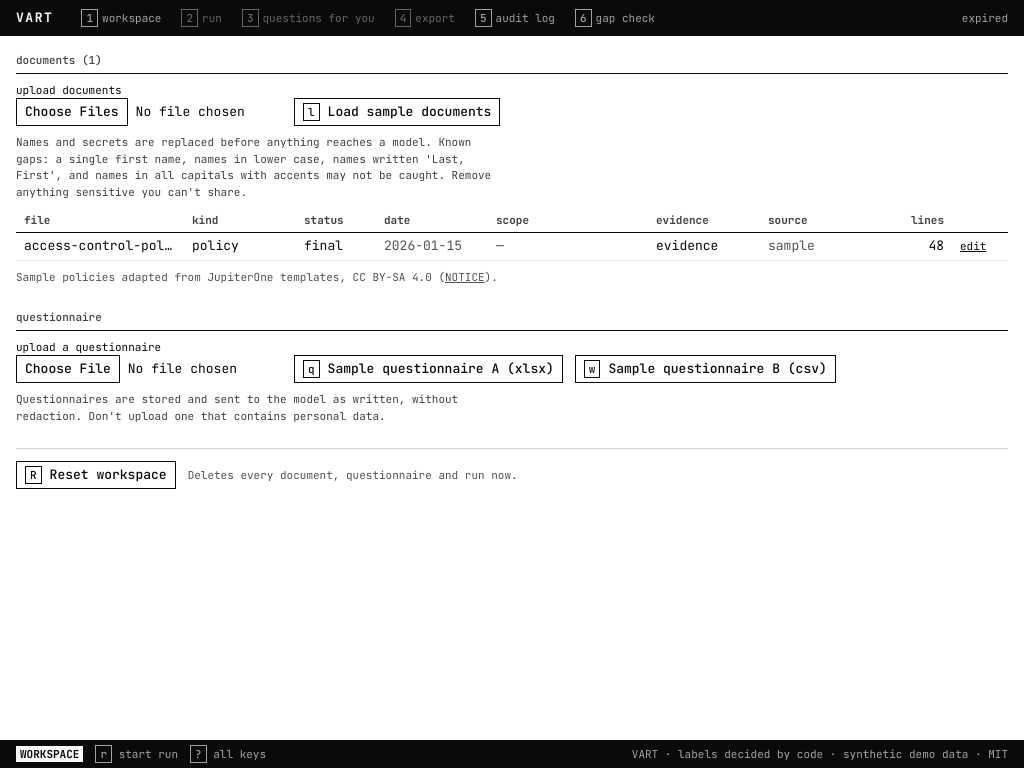
Scenario: Workspace › shows a refused metadata save inside that row's form
Click the button with aria-label "Edit access-control-policy.docx". click: click(973, 246)
box: [960,238,986,254]
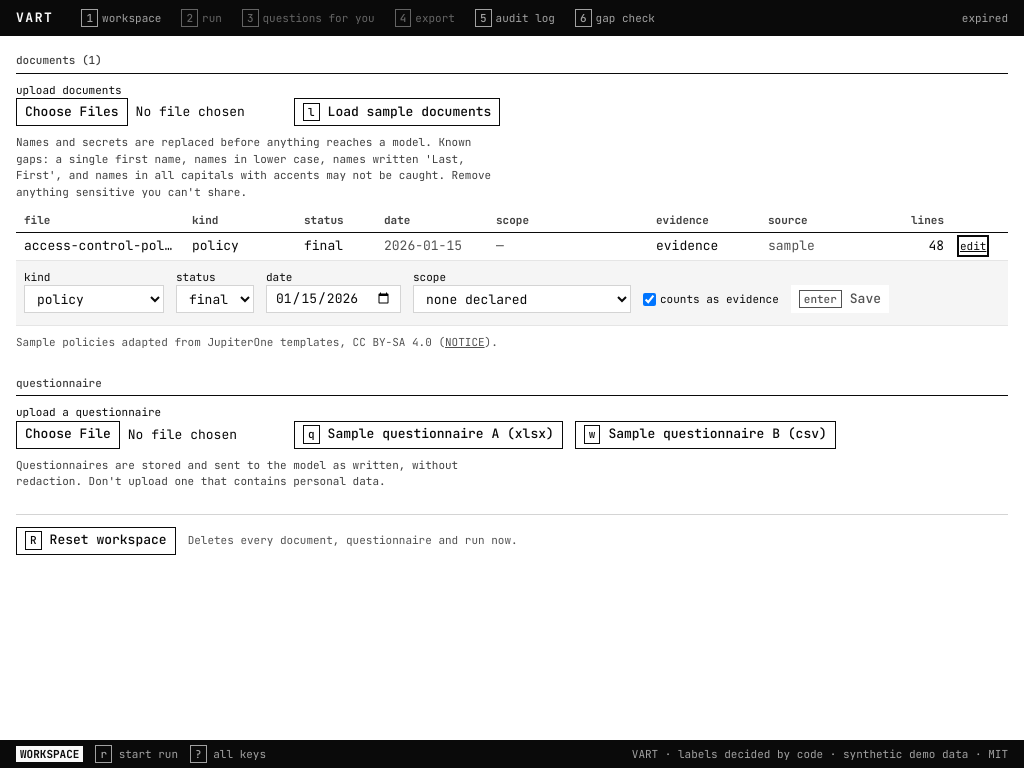
Select "draft" in the dropdown labelled "status". click: (215, 299)
box: [176,285,254,313]
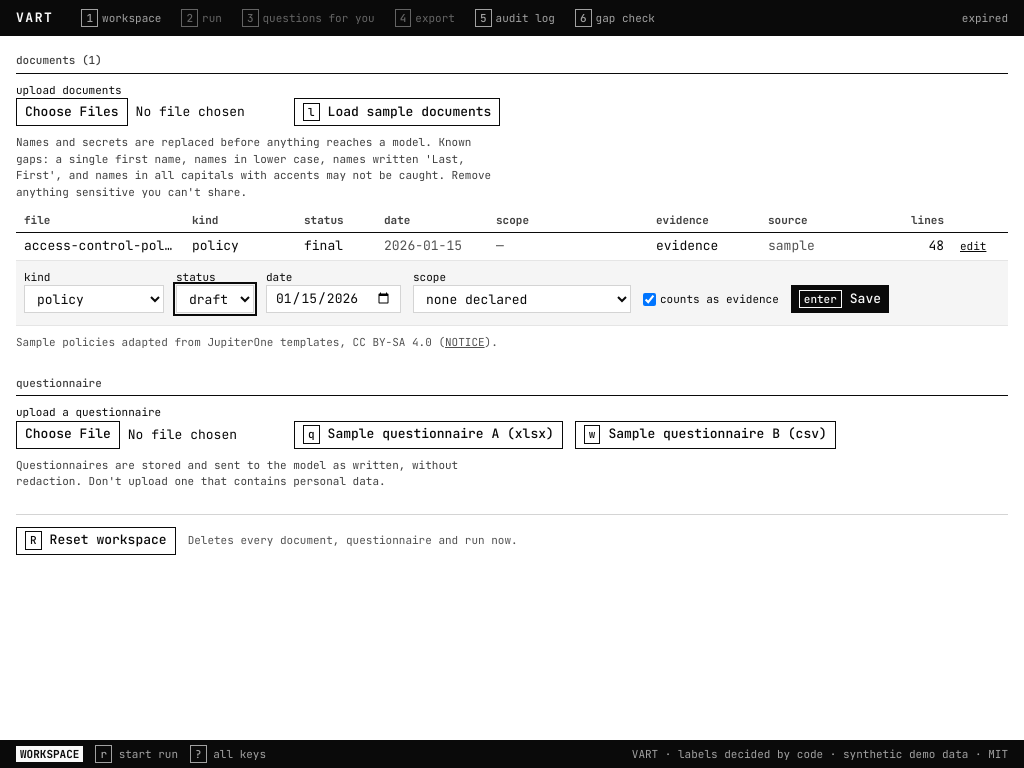
Click the button "enter Save". click: click(840, 299)
box: [791,285,889,313]
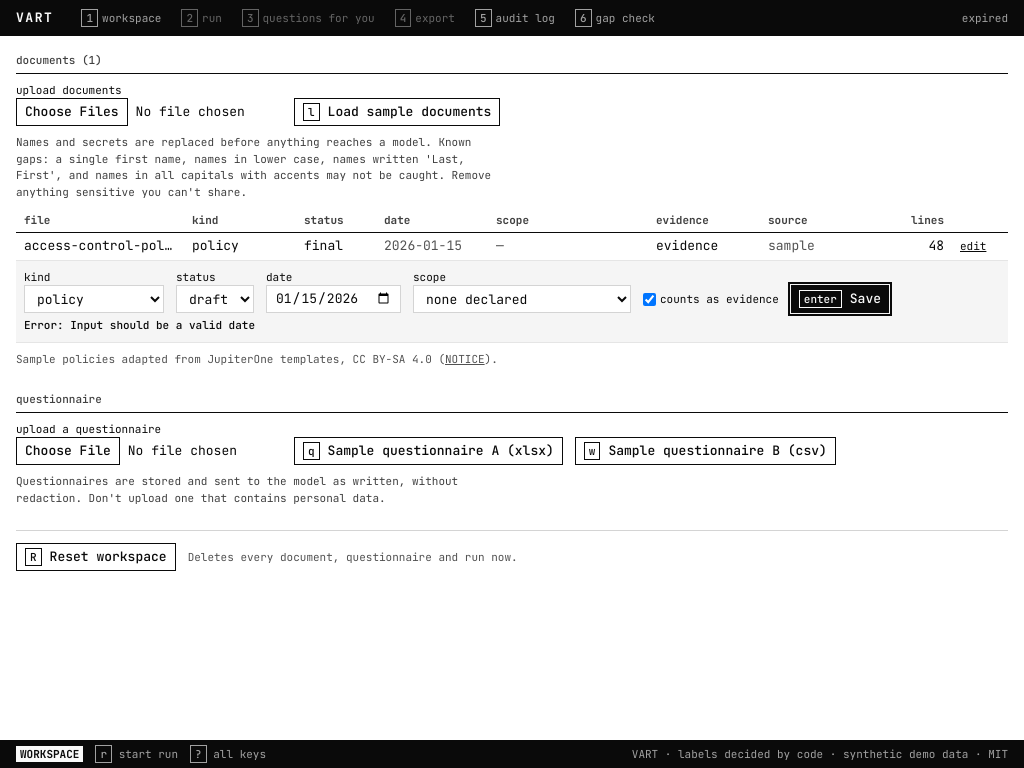
Now the message reads "Error: Input should be a valid date", box [24,318,255,332]
